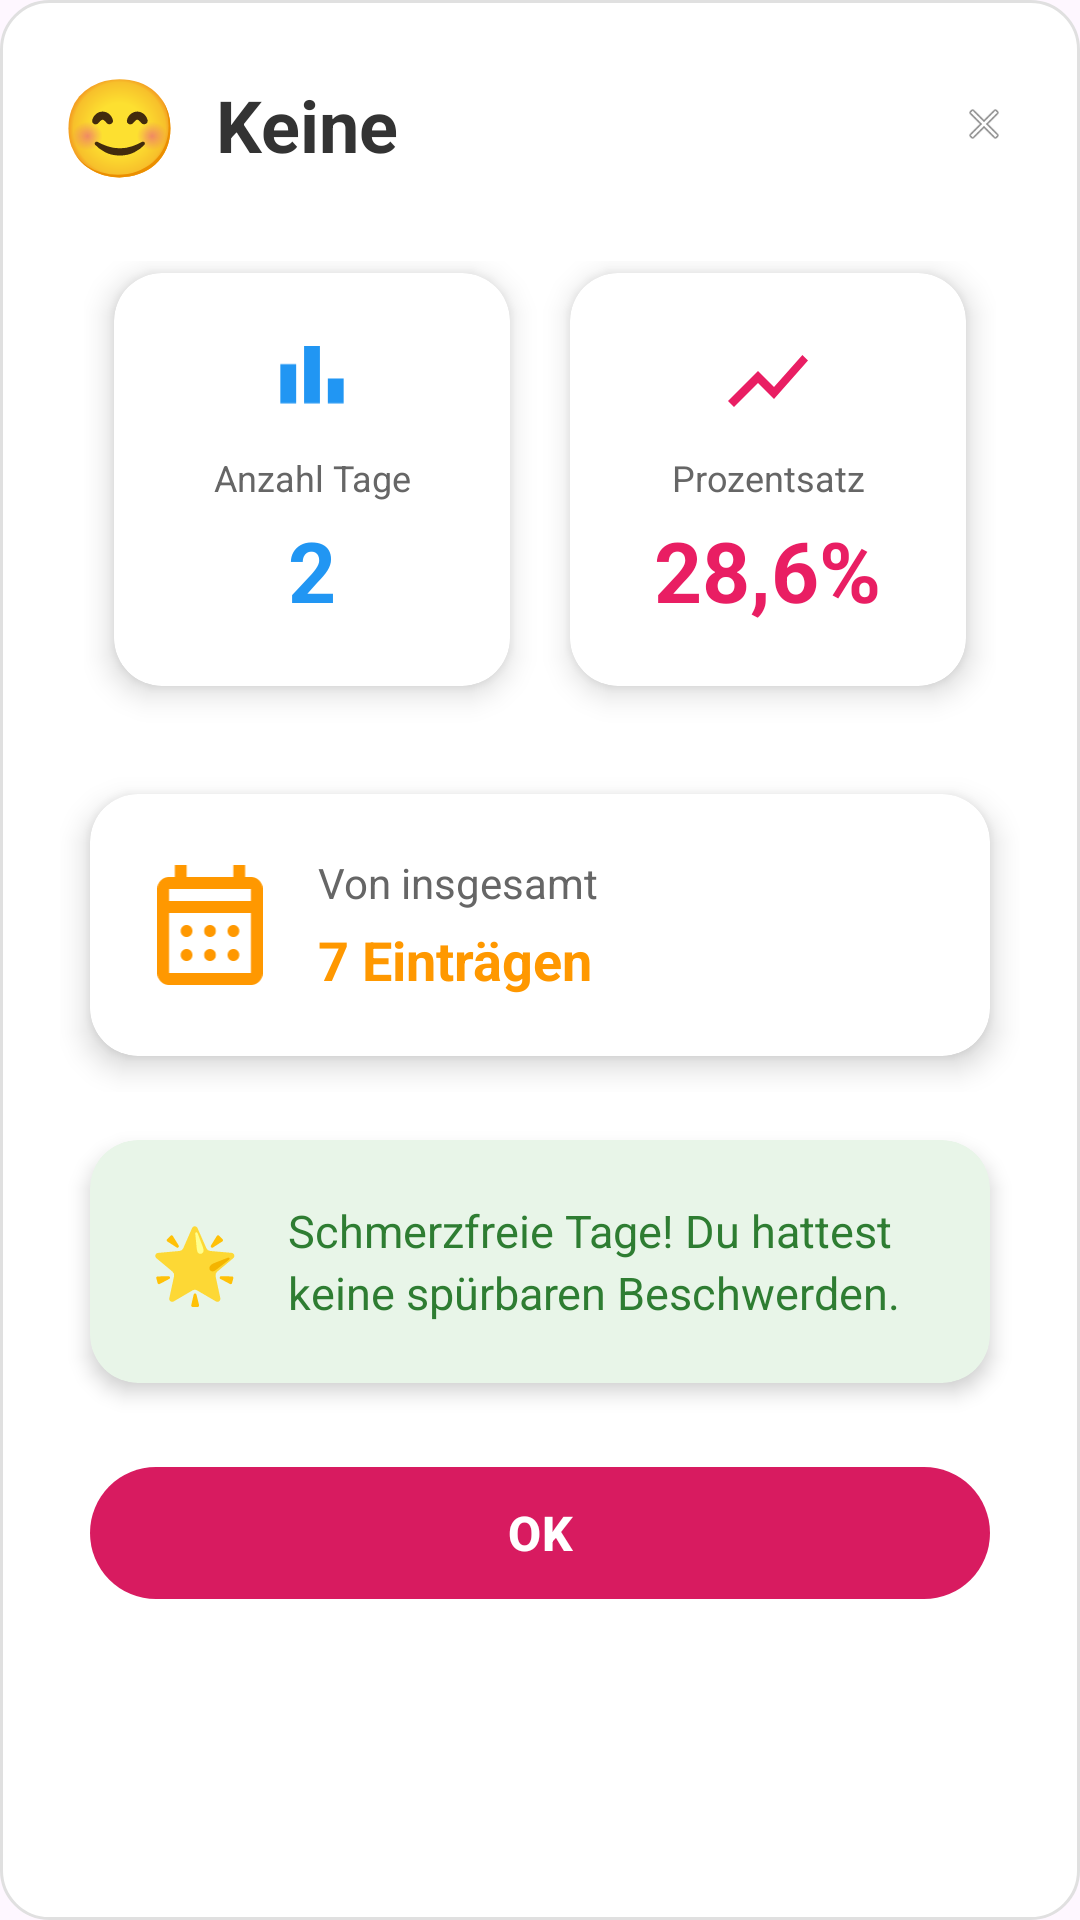

Named icons in this screenshot (1080px x 1920px) and their bounding boxes, region(x1, y1, x2, y2):
Dialog schließen: region(969, 109, 999, 139)
show chart: region(728, 355, 808, 407)
statistik: region(280, 346, 344, 404)
